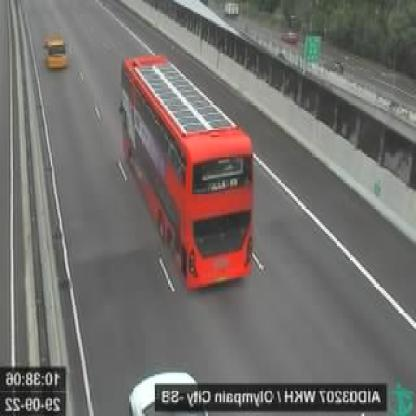Car: (122, 364, 220, 414), (43, 30, 70, 74)
Truck: (112, 48, 257, 300)
